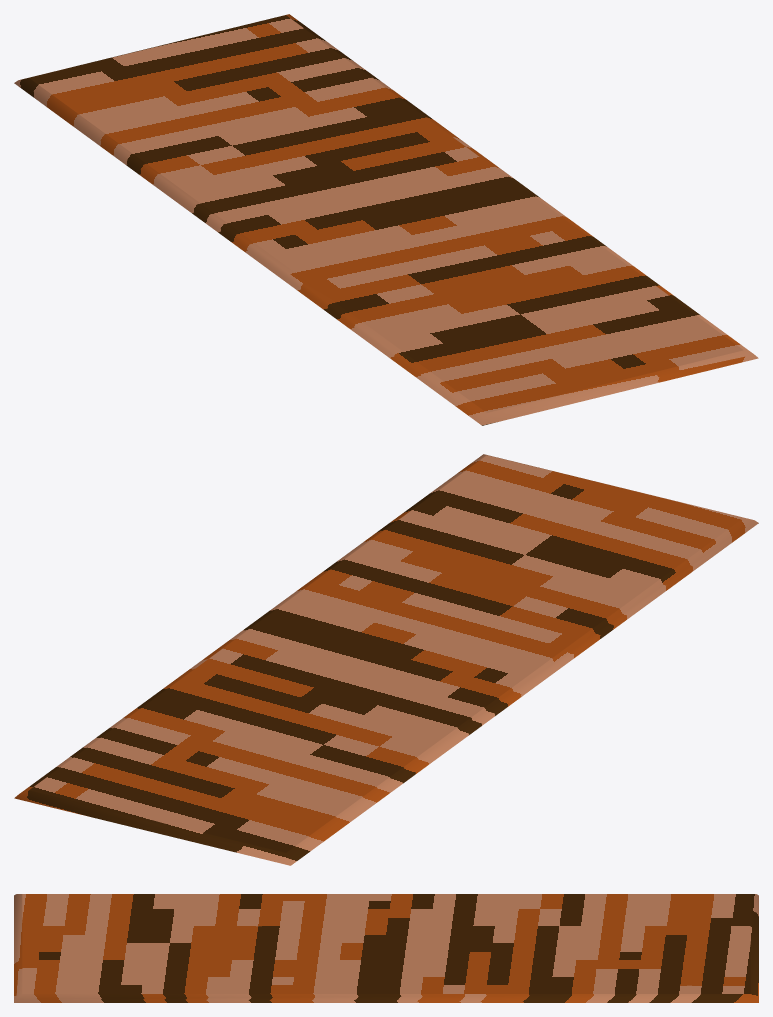
The model's file is TableTop.obj.
3 views of the same model, one above another, from view 1: azimuth 30°, elevation 25°; view 2: azimuth 150°, elevation 25°; view 3: azimuth 270°, elevation 25° (orthographic). The views are drawn at different scales.
Parts seen in each view (by area): view 1: TableTop_Plane.001; view 2: TableTop_Plane.001; view 3: TableTop_Plane.001.
Boxes of the visible parts, bbox=[...] form: TableTop_Plane.001: bbox=[14, 14, 758, 425]; TableTop_Plane.001: bbox=[14, 454, 758, 865]; TableTop_Plane.001: bbox=[14, 894, 758, 1002].
Size of the model in its own units: 7.21 by 0.1651 by 21.14.
